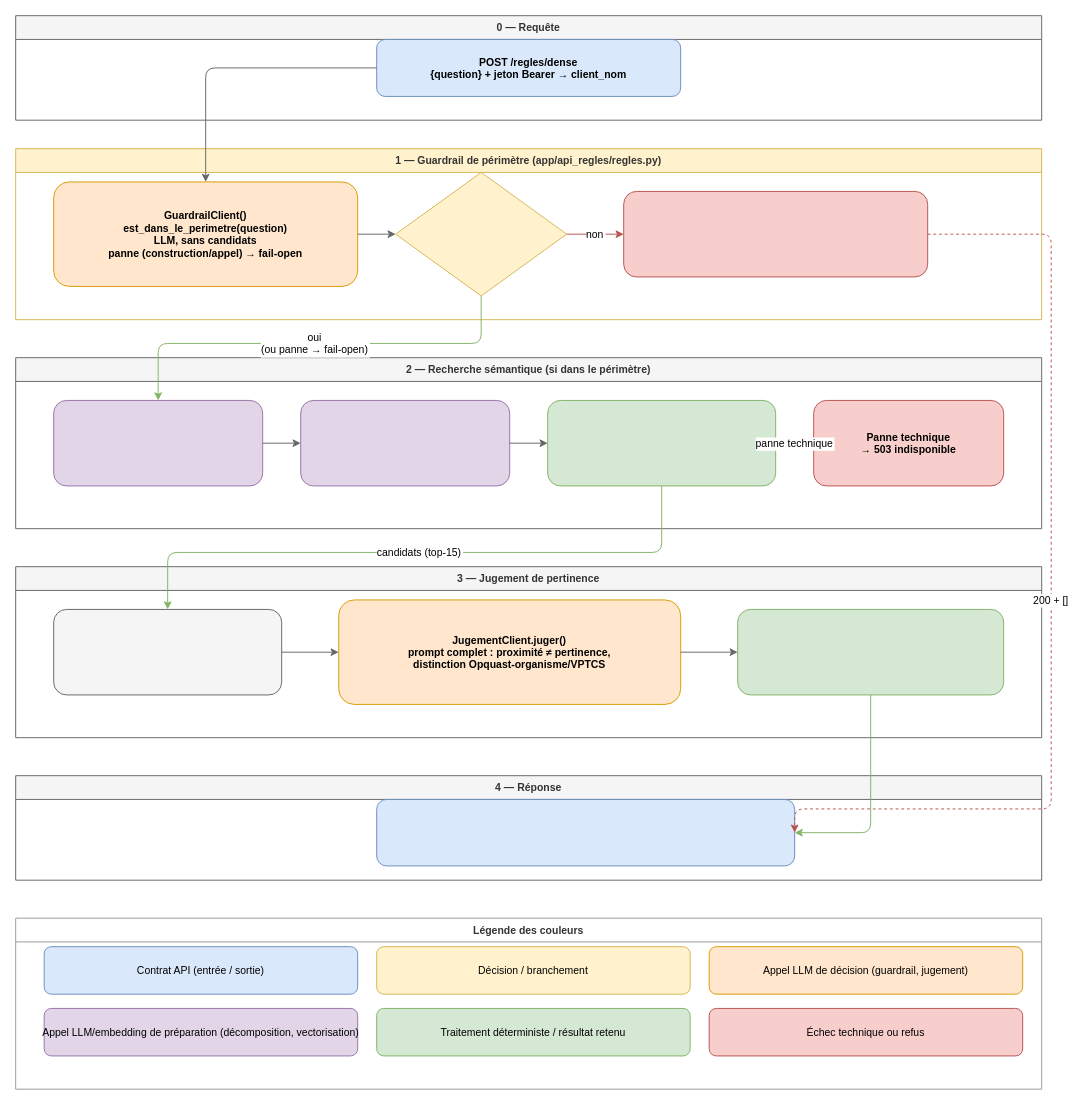
Some shapes in this 1086 by 1105 pixel diagram are drawn without their labels. The centre of each missing label's shape, as x and y in pixels:
0 à N règles retenues (liste vide = refus explicite): the point at 870,651
200 + [RegleAvecScore, ...] score = 1 − cosinus (informatif, plus le critère): the point at 585,832
Charger + trier les règles selon l'ordre de retrieve(): the point at 167,651
Dans le périmètre ?: the point at 481,233
DecompositionClient() question → sous-questions: the point at 158,442
EmbeddingClient() vectorise chaque sous-question: the point at 405,442
Hors périmètre → 200 + [] immédiat (rien d'autre appelé): the point at 775,233
retrieve() — pgvector top_n = 15, fusion meilleur score: the point at 661,442
